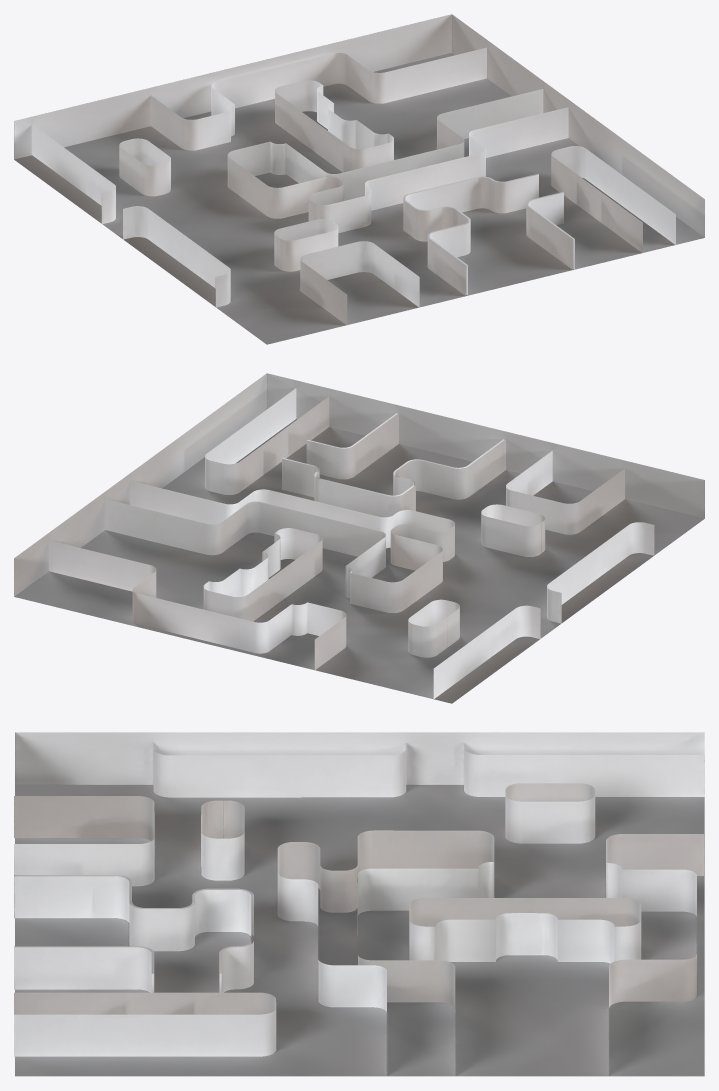
File: paintball.glb
3 renders of one model, top to bottom at view 1: azimuth 30°, elevation 25°; view 2: azimuth 150°, elevation 25°; view 3: azimuth 270°, elevation 25°, orthographic. The views are drawn at different scales.
Visible parts, largest first — view 1: walls.001_1, Floor_3, OuterWalls.002_2; view 2: walls.001_1, Floor_3, OuterWalls.002_2; view 3: walls.001_1, Floor_3, OuterWalls.002_2.
Part boxes in pixels (x1,y1,x2,y2): walls.001_1: (32, 47, 675, 325); Floor_3: (14, 53, 704, 344); OuterWalls.002_2: (14, 14, 704, 237); walls.001_1: (49, 388, 654, 698); Floor_3: (14, 419, 704, 703); OuterWalls.002_2: (14, 373, 704, 596); walls.001_1: (14, 743, 704, 1056); Floor_3: (15, 785, 704, 1076); OuterWalls.002_2: (15, 732, 704, 784).
Size of the model in its own units: 34.64 by 2.91 by 34.63.
Materials: 5 (4 with a texture image).
